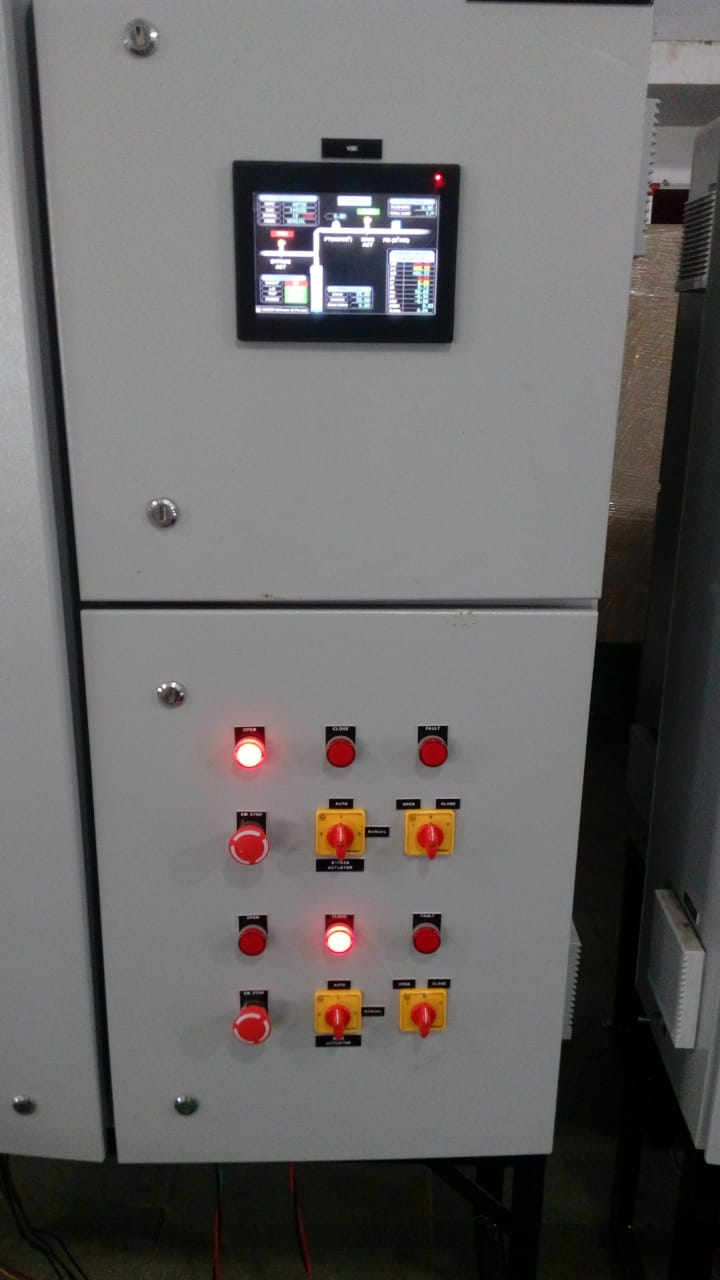Red_Led_Off: (218, 898, 292, 973), (307, 712, 377, 788), (402, 709, 468, 784), (402, 900, 468, 970)
Red_Led_On: (213, 712, 289, 787), (311, 903, 375, 967)
